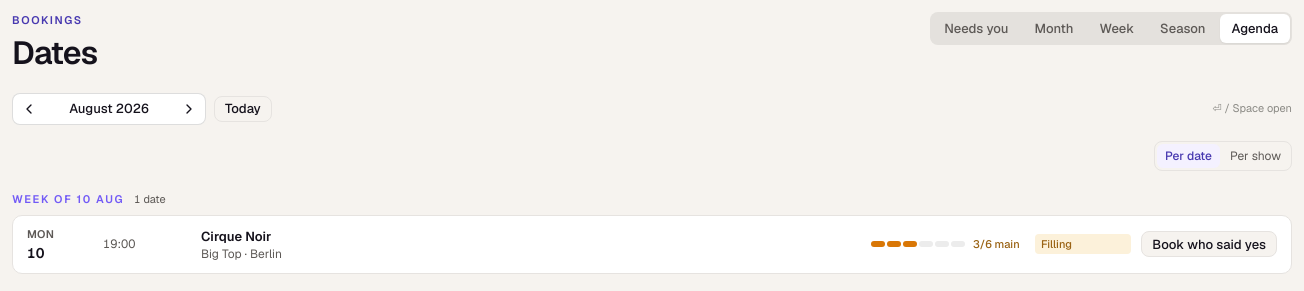
CalendarSurface — agenda is period-windowed › clicking Prev swaps the agenda body to the previous month
expect the button with test id "agenda-row-pd-aug" is shown: met, box [13,216,1291,272]
Click the button with test id "period-navigator-prev" at coordinates (29, 108), box [15,94,43,122]
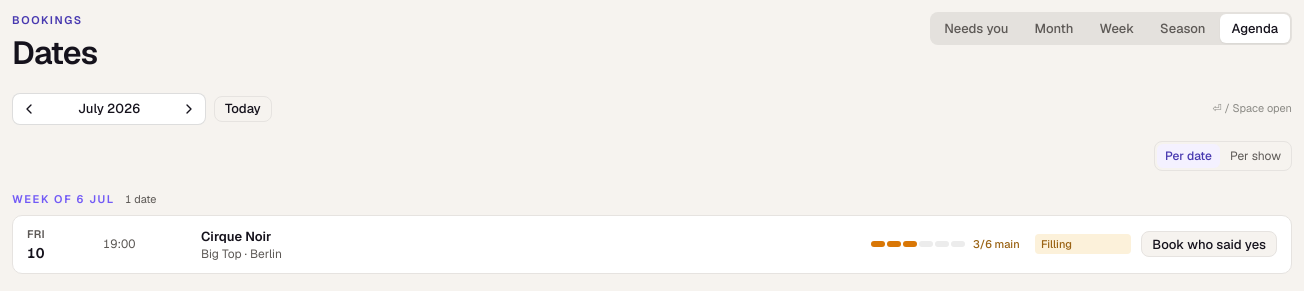
expect the button with test id "agenda-row-pd-jul" is shown: met, box [13,216,1291,272]
expect the button with test id "agenda-row-pd-aug" is gone: met
